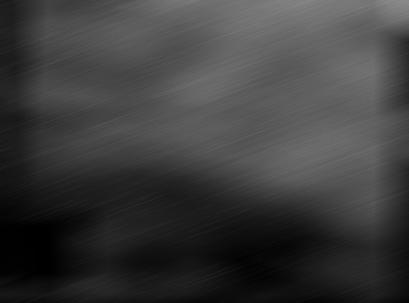Airbag: (0, 0, 409, 302), (395, 2, 409, 303)
